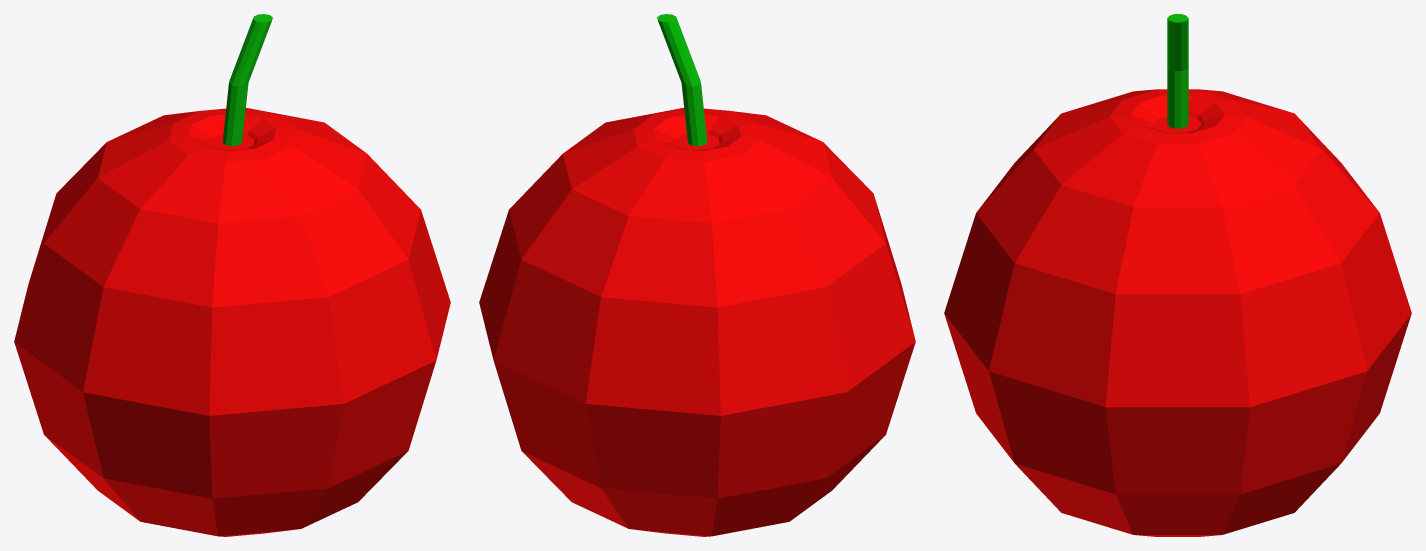
File: Apple_01.fbx
3 renders of one model, left to right at view 1: azimuth 30°, elevation 25°; view 2: azimuth 150°, elevation 25°; view 3: azimuth 270°, elevation 25°, orthographic. The views are drawn at different scales.
Parts seen in each view (by area): view 1: Apple_01; view 2: Apple_01; view 3: Apple_01.
Boxes of the visible parts, bbox=[...] form: Apple_01: bbox=[14, 14, 450, 536]; Apple_01: bbox=[479, 14, 915, 536]; Apple_01: bbox=[944, 14, 1411, 536].
Size of the model in its own units: 9.3 by 11.75 by 9.78.
